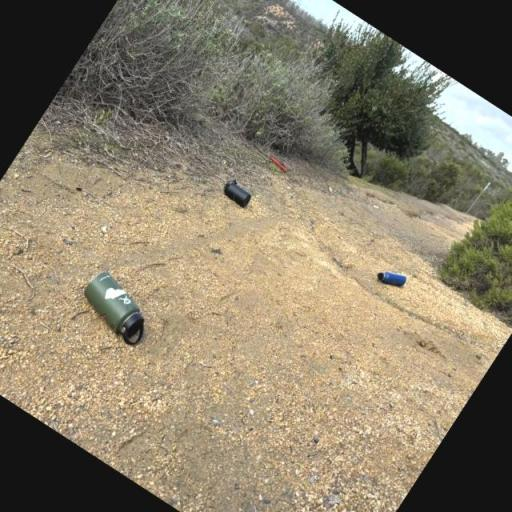bottle: (367, 254, 412, 300)
mallet: (264, 153, 292, 178)
